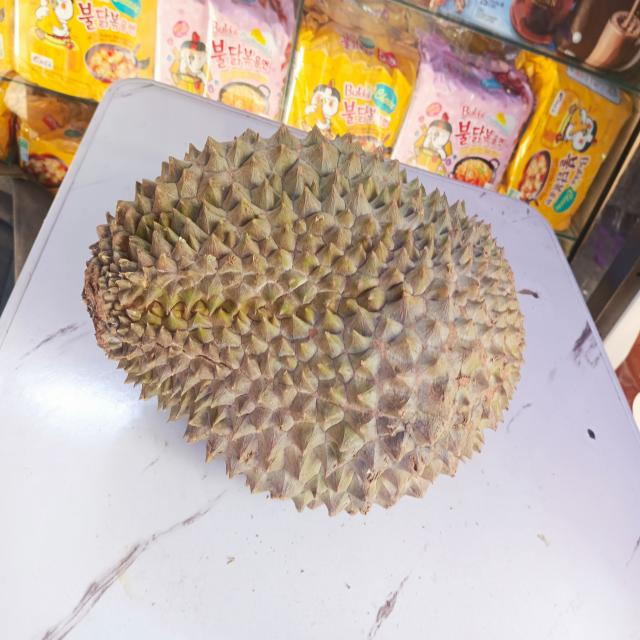mature: (84, 126, 525, 515)
